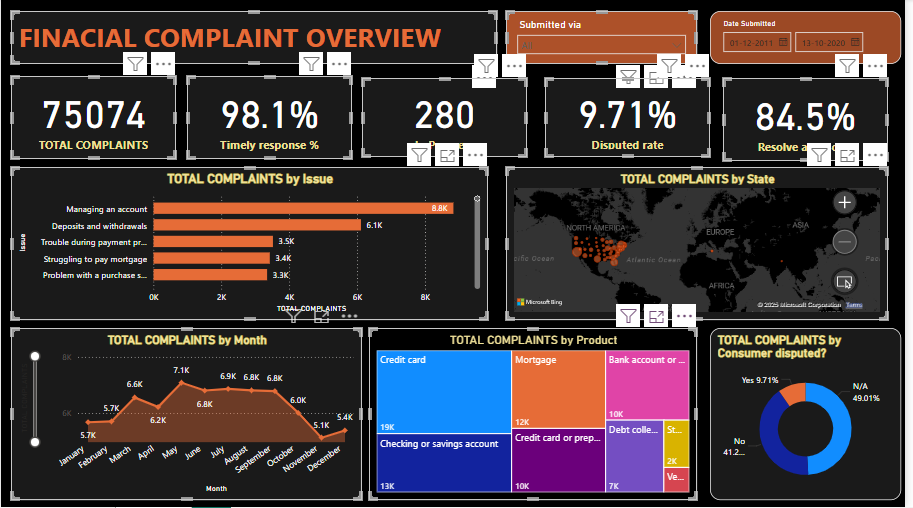

The page's visual inventory and layout, read from the dashboard file:
{"tool":"powerbi","page":{"name":"Page 1","canvas":[1280,720],"ordinal":0},"visuals":[{"type":"card","fields":{"Values":["ALL MEASURE.TOTAL COMPLAINTS"]},"box":[14.2,109.1,233.9,117.6],"z":0},{"type":"card","fields":{"Values":["ALL MEASURE.Timely response %"]},"box":[263.6,109.1,233.9,117.6],"z":1000},{"type":"card","fields":{"Values":["ALL MEASURE.In Progress"]},"box":[511.7,112,233.9,112],"z":2000},{"type":"card","fields":{"Values":["ALL MEASURE.Disputed rate"]},"box":[771,112,233.9,112],"z":3000},{"type":"card","fields":{"Values":["ALL MEASURE.Resolve at no cost"]},"box":[1023.3,112,233.9,117.6],"z":4000},{"type":"barChart","fields":{"Category":["Financial Consumer Complaints.Issue"],"Y":["ALL MEASURE.TOTAL COMPLAINTS"]},"box":[14.2,238.1,676.1,216.9],"z":5000},{"type":"map","fields":{"Category":["Financial Consumer Complaints.State"],"Size":["ALL MEASURE.TOTAL COMPLAINTS"]},"box":[715.7,238.1,541.4,216.9],"z":6000},{"type":"areaChart","fields":{"Category":["Financial Consumer Complaints.Date Received.Variation.Date Hierarchy.Month"],"Y":["ALL MEASURE.TOTAL COMPLAINTS"]},"box":[14.2,466.3,497.5,243.8],"z":7000},{"type":"treemap","fields":{"Group":["Financial Consumer Complaints.Product"],"Values":["ALL MEASURE.TOTAL COMPLAINTS"]},"box":[521.6,466.3,464.9,243.8],"z":8000},{"type":"donutChart","fields":{"Category":["Financial Consumer Complaints.Consumer disputed?"],"Y":["ALL MEASURE.TOTAL COMPLAINTS"]},"box":[1004.9,466.3,270.7,243.8],"z":9000},{"type":"slicer","fields":{"Values":["Financial Consumer Complaints.Date Submitted"]},"box":[1004.9,17,270.7,75.1],"z":10000},{"type":"slicer","fields":{"Values":["Financial Consumer Complaints.Submitted via"]},"box":[715.7,17,270.7,75.1],"z":11000},{"type":"textbox","box":[14.2,17,688.8,75.1],"z":12000}]}

Visuals, with their boxes in screenshot pixels (x1, y1, x2, y2), scaled from the page's 1280x720 canvas onto the 913x508 screenshot:
card - ALL MEASURE.TOTAL COMPLAINTS: box(10, 77, 177, 160)
card - ALL MEASURE.Timely response %: box(188, 77, 355, 160)
card - ALL MEASURE.In Progress: box(365, 79, 532, 158)
card - ALL MEASURE.Disputed rate: box(550, 79, 717, 158)
card - ALL MEASURE.Resolve at no cost: box(730, 79, 897, 162)
barChart - Financial Consumer Complaints.Issue x ALL MEASURE.TOTAL COMPLAINTS: box(10, 168, 492, 321)
map - Financial Consumer Complaints.State x ALL MEASURE.TOTAL COMPLAINTS: box(510, 168, 897, 321)
areaChart - Financial Consumer Complaints.Date Received.Variation.Date Hierarchy.Month x ALL MEASURE.TOTAL COMPLAINTS: box(10, 329, 365, 501)
treemap - Financial Consumer Complaints.Product x ALL MEASURE.TOTAL COMPLAINTS: box(372, 329, 704, 501)
donutChart - Financial Consumer Complaints.Consumer disputed? x ALL MEASURE.TOTAL COMPLAINTS: box(717, 329, 910, 501)
slicer - Financial Consumer Complaints.Date Submitted: box(717, 12, 910, 65)
slicer - Financial Consumer Complaints.Submitted via: box(510, 12, 704, 65)
textbox: box(10, 12, 501, 65)
